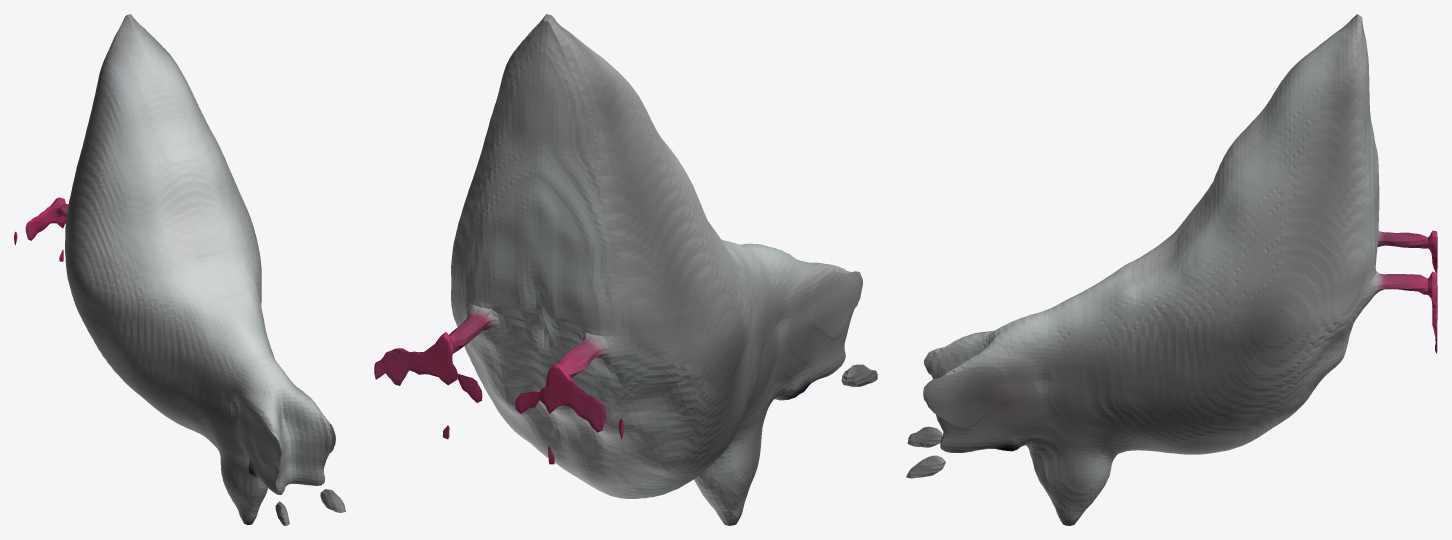
The model's file is a rabbit bear that looks like a bird.fbx.
3 renders of one model, left to right at view 1: azimuth 30°, elevation 25°; view 2: azimuth 150°, elevation 25°; view 3: azimuth 270°, elevation 25°, orthographic. The views are drawn at different scales.
Parts seen in each view (by area): view 1: a rabbit that looks like a bird_2; view 2: a rabbit that looks like a bird_2; view 3: a rabbit that looks like a bird_2.
Part boxes in pixels (box(x1,y1,x2,y2)): a rabbit that looks like a bird_2: box(14, 14, 345, 525); a rabbit that looks like a bird_2: box(374, 14, 877, 525); a rabbit that looks like a bird_2: box(906, 14, 1437, 525).
Size of the model in its own units: 85.25 by 197 by 186.
